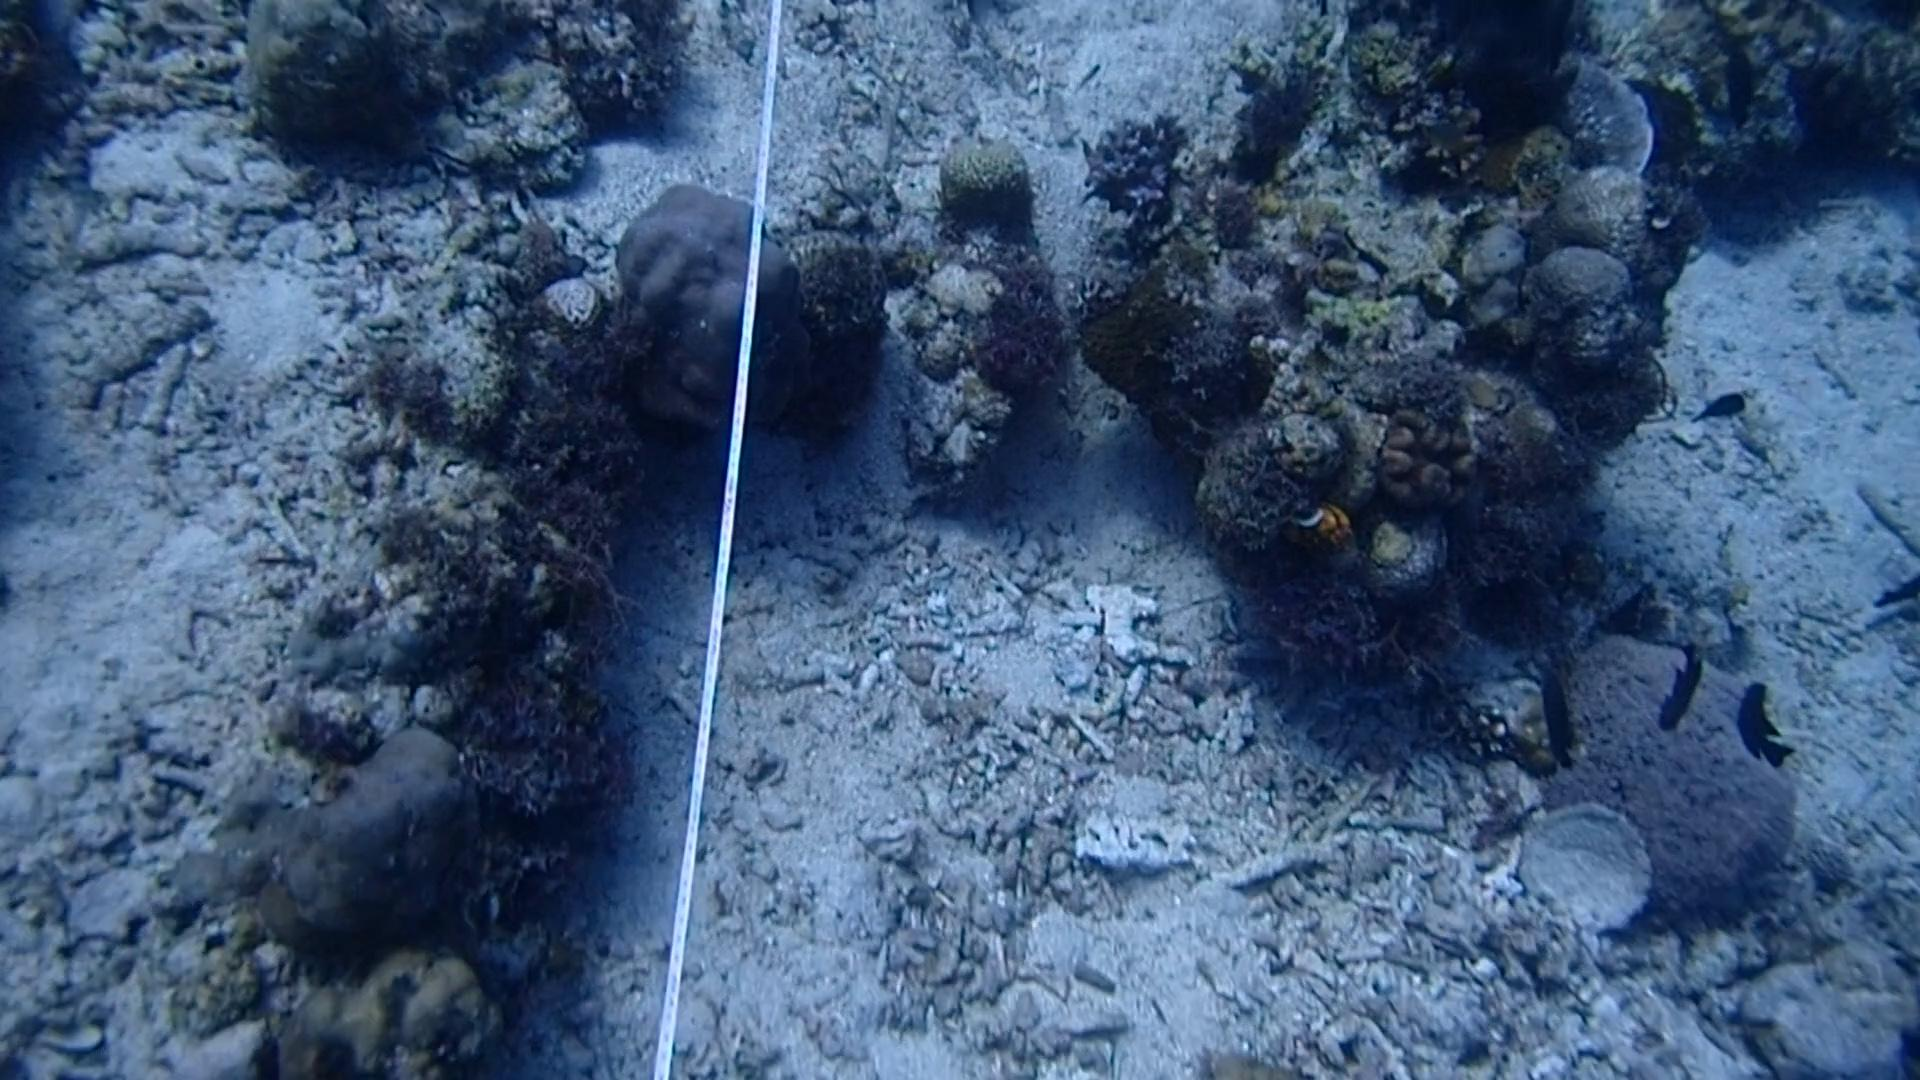Dark Fish: (1729, 665, 1796, 783), (1520, 661, 1590, 766), (1644, 638, 1714, 738), (1710, 37, 1766, 138), (1862, 551, 1920, 618), (1688, 386, 1756, 430)
Light Fish w Back Stripes: (41, 119, 104, 261)
